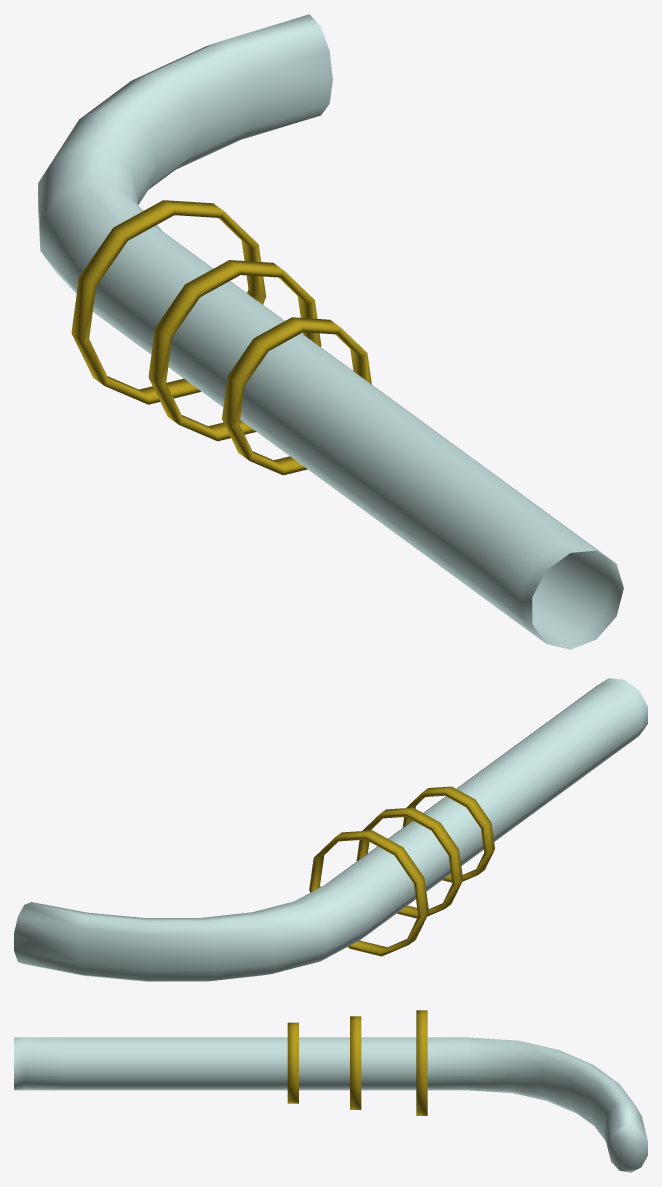
File: ElectricModuleCurve.FBX
The picture shows the model from 3 angles, top to bottom: view 1: azimuth 30°, elevation 25°; view 2: azimuth 150°, elevation 25°; view 3: azimuth 270°, elevation 25°; orthographic projection. The views are drawn at different scales.
Parts seen in each view (by area): view 1: ElectricModuleLeft, ArosModuleCurve; view 2: ElectricModuleLeft, ArosModuleCurve; view 3: ElectricModuleLeft, ArosModuleCurve.
Boxes of the visible parts, x1,y1,x2,y2 form: ElectricModuleLeft: (38,14,623,649); ArosModuleCurve: (71,200,371,475); ElectricModuleLeft: (14,678,647,981); ArosModuleCurve: (309,786,494,956); ElectricModuleLeft: (14,1037,647,1172); ArosModuleCurve: (287,1010,427,1115).
Bounding box in the file's own units: 40.26 × 16.55 × 100.
